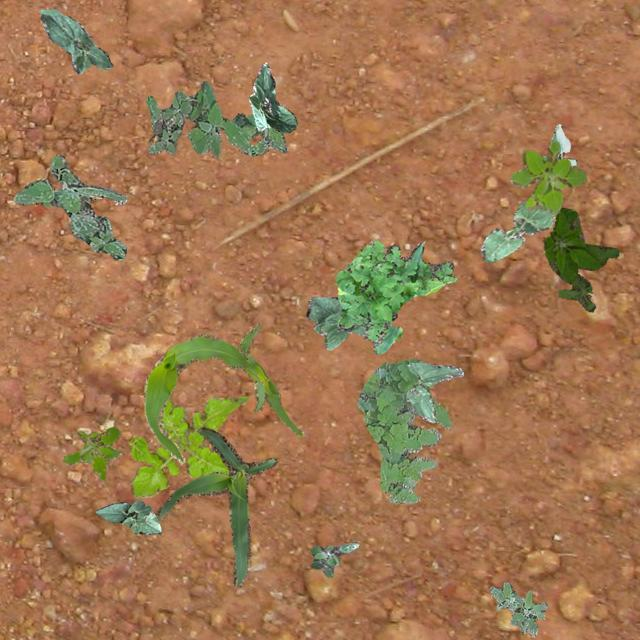crop: (142, 322, 302, 462), (154, 426, 276, 586), (38, 8, 112, 72), (479, 200, 554, 262), (404, 361, 462, 422), (248, 62, 296, 132), (306, 296, 364, 348), (94, 498, 160, 534), (549, 124, 575, 164)
weed: (334, 240, 456, 354), (356, 358, 449, 502), (12, 154, 126, 260), (128, 394, 246, 496), (146, 80, 286, 158), (542, 207, 618, 310), (508, 140, 584, 213), (488, 580, 546, 636), (61, 426, 120, 480), (310, 540, 358, 576)
